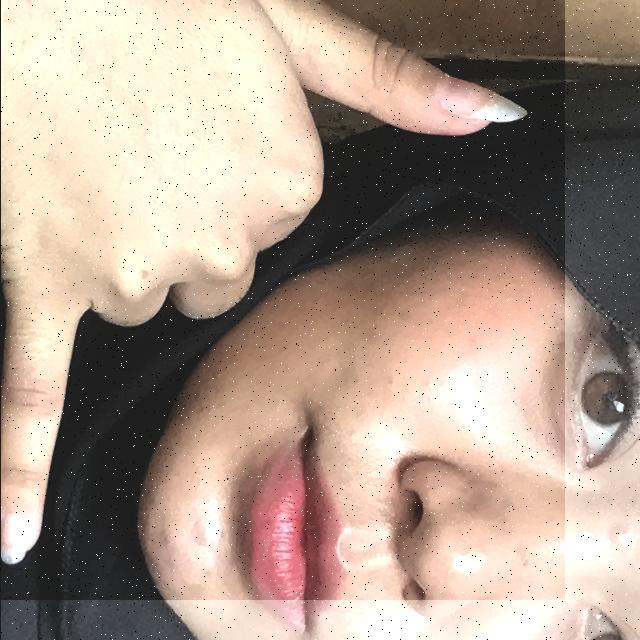telpon: (0, 0, 564, 600)
